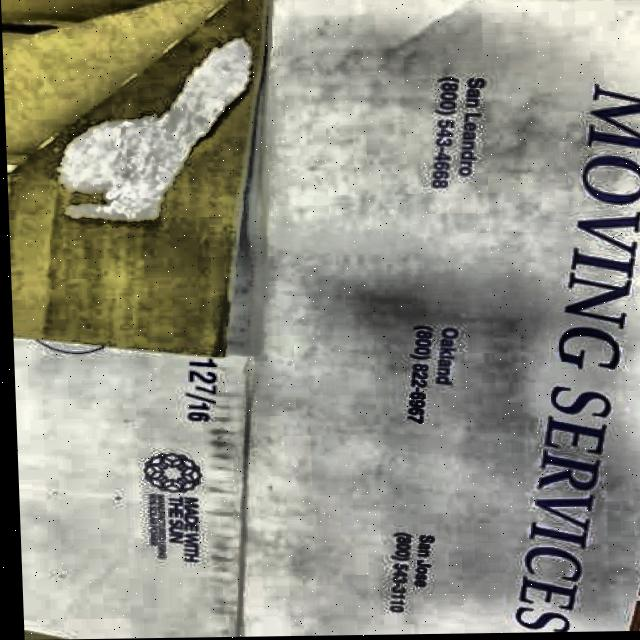cardboard: (2, 0, 287, 361)
